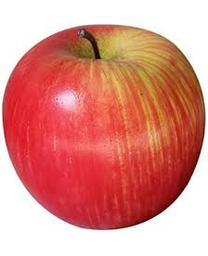apple: (0, 24, 204, 229)
